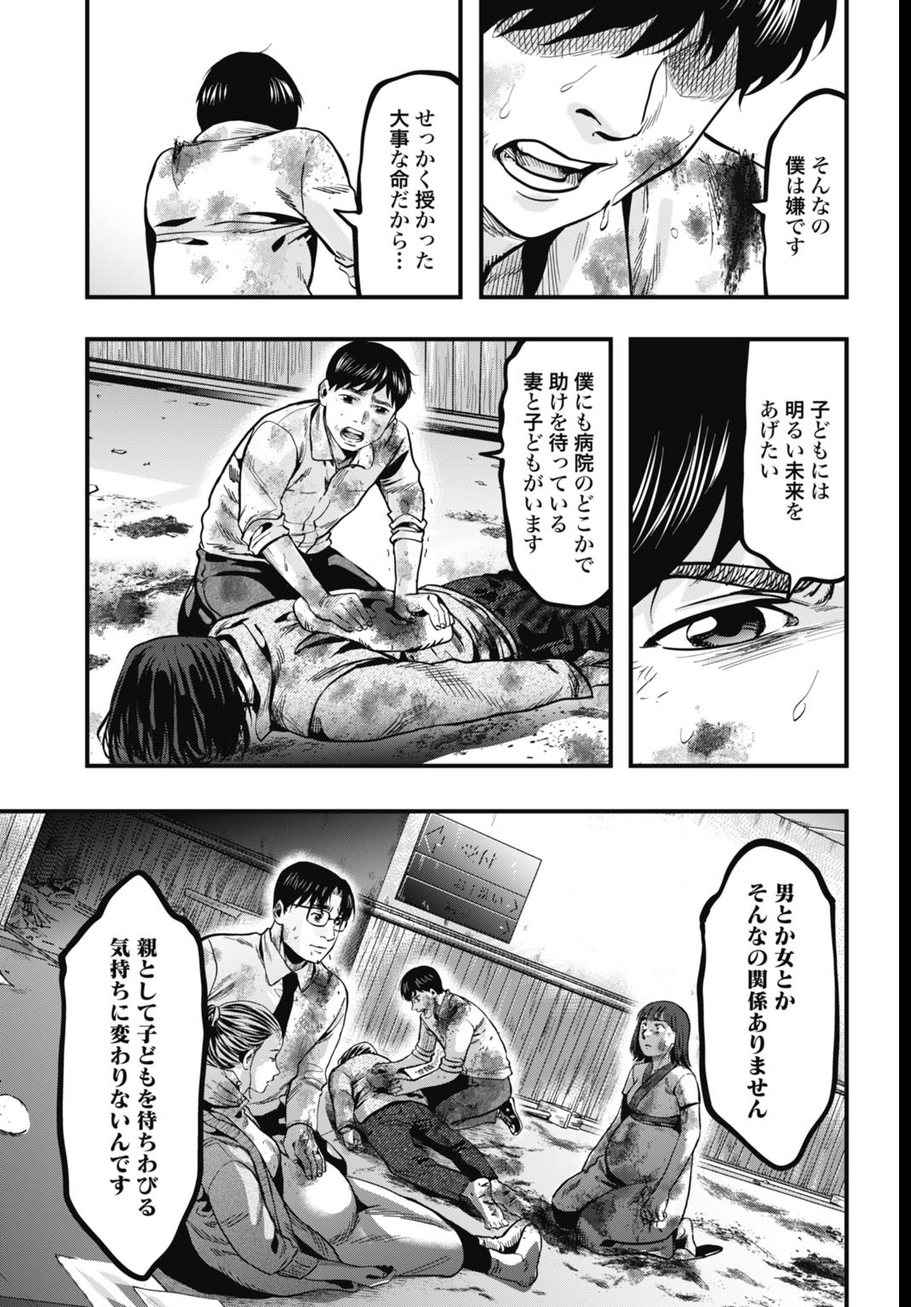bubbles: (52, 860, 212, 1284), (690, 832, 843, 1181), (478, 339, 612, 611), (329, 64, 463, 297), (731, 340, 847, 601), (749, 80, 848, 295)
